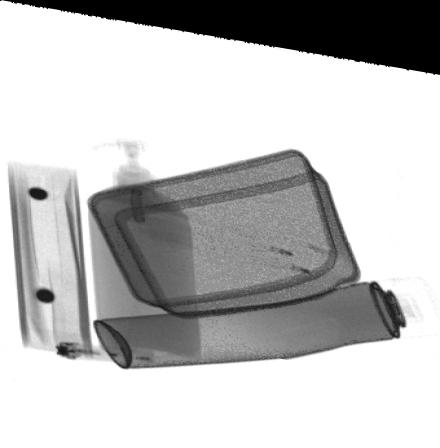Lighter: (54, 334, 154, 362)
Sprayer: (95, 260, 437, 366)
